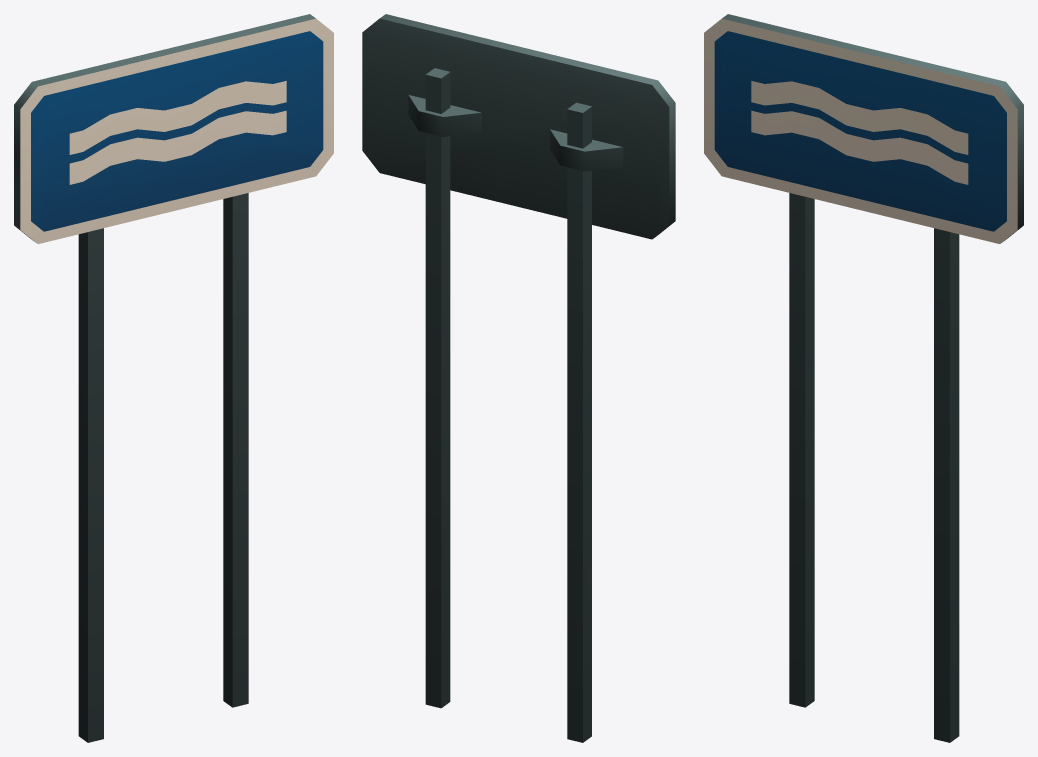
Rendered from Streetsign_4A.fbx.
3 renders of one model, left to right at view 1: azimuth 30°, elevation 25°; view 2: azimuth 150°, elevation 25°; view 3: azimuth 330°, elevation 25°, orthographic. The views are drawn at different scales.
Parts seen in each view (by area): view 1: Streetsign_4A; view 2: Streetsign_4A; view 3: Streetsign_4A.
Boxes of the visible parts, <box> form: Streetsign_4A: <box>14,14,333,742</box>; Streetsign_4A: <box>362,14,675,742</box>; Streetsign_4A: <box>704,14,1023,742</box>.
Size of the model in its own units: 173 by 358 by 20.83.
